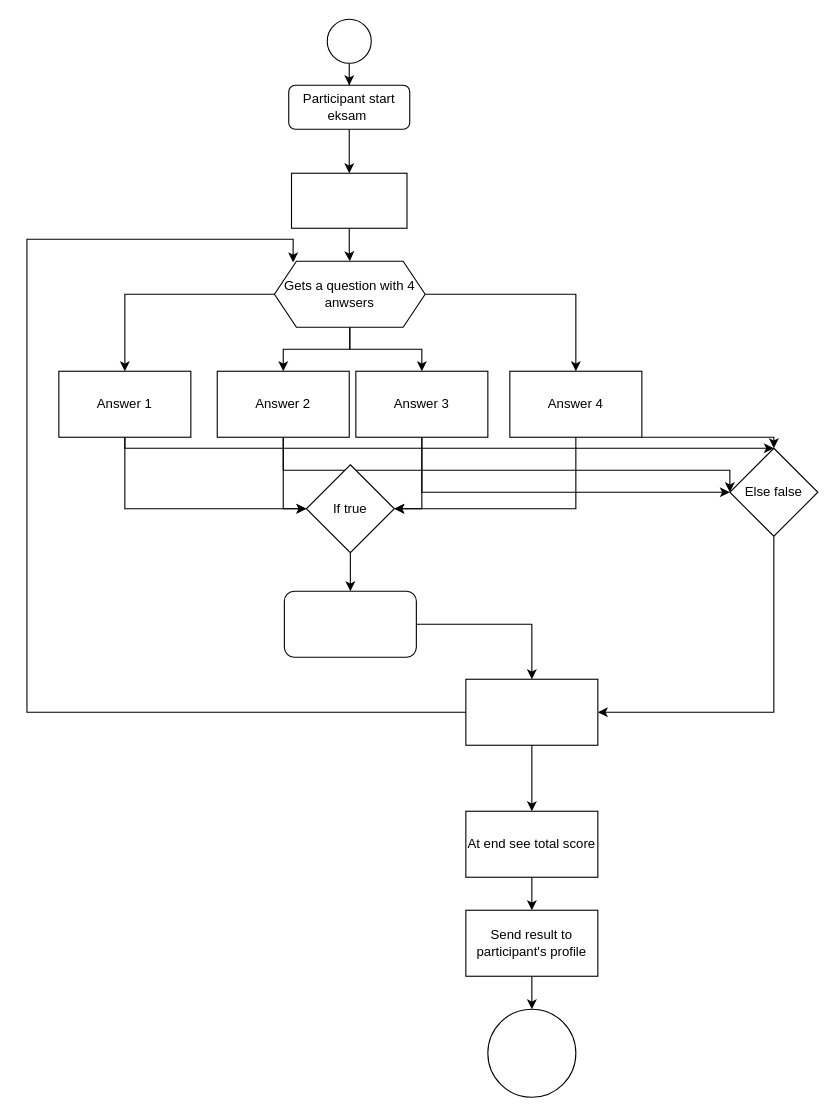
This 837x1117 diagram has some shape labels left out. Here are the shapes that lost their labels. From the top down, the box of each, then its label:
(326, 18, 371, 63): Start
(290, 172, 407, 228): New page
(283, 590, 416, 657): give participant a point
(465, 678, 598, 745): Go to next page
(487, 1008, 576, 1097): END
